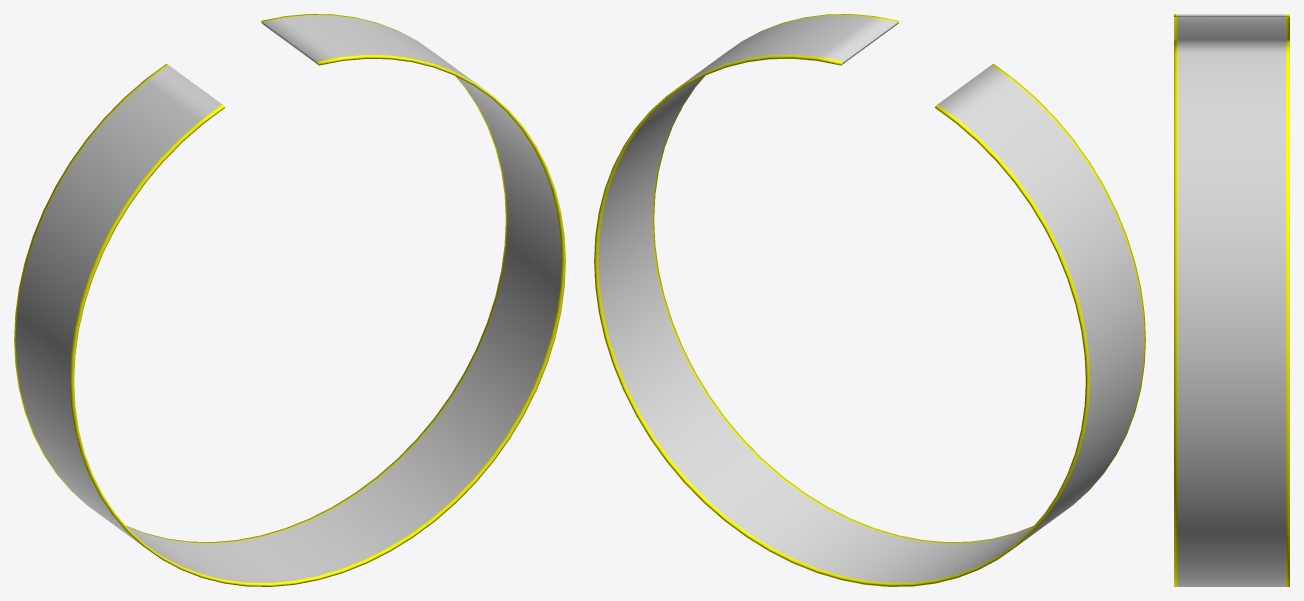
File: NormalNote14.fbx
3 renders of one model, left to right at view 1: azimuth 30°, elevation 25°; view 2: azimuth 150°, elevation 25°; view 3: azimuth 270°, elevation 25°, orthographic.
Visible parts, largest first — view 1: NormalNote14; view 2: NormalNote14; view 3: NormalNote14.
Part boxes in pixels (left/top/right/bottom): NormalNote14: left=14, top=14, right=565, bottom=586; NormalNote14: left=594, top=14, right=1145, bottom=586; NormalNote14: left=1174, top=14, right=1289, bottom=586.
Size of the model in its own units: 198 by 40 by 198.
